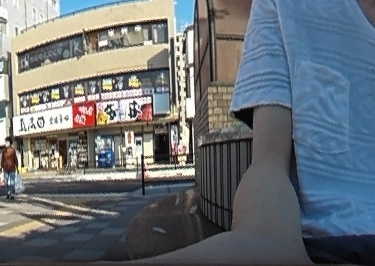person: (1, 135, 17, 200)
